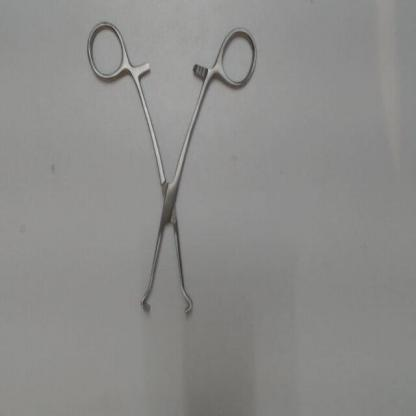Babcock Tissue Forceps: (78, 21, 265, 321)
